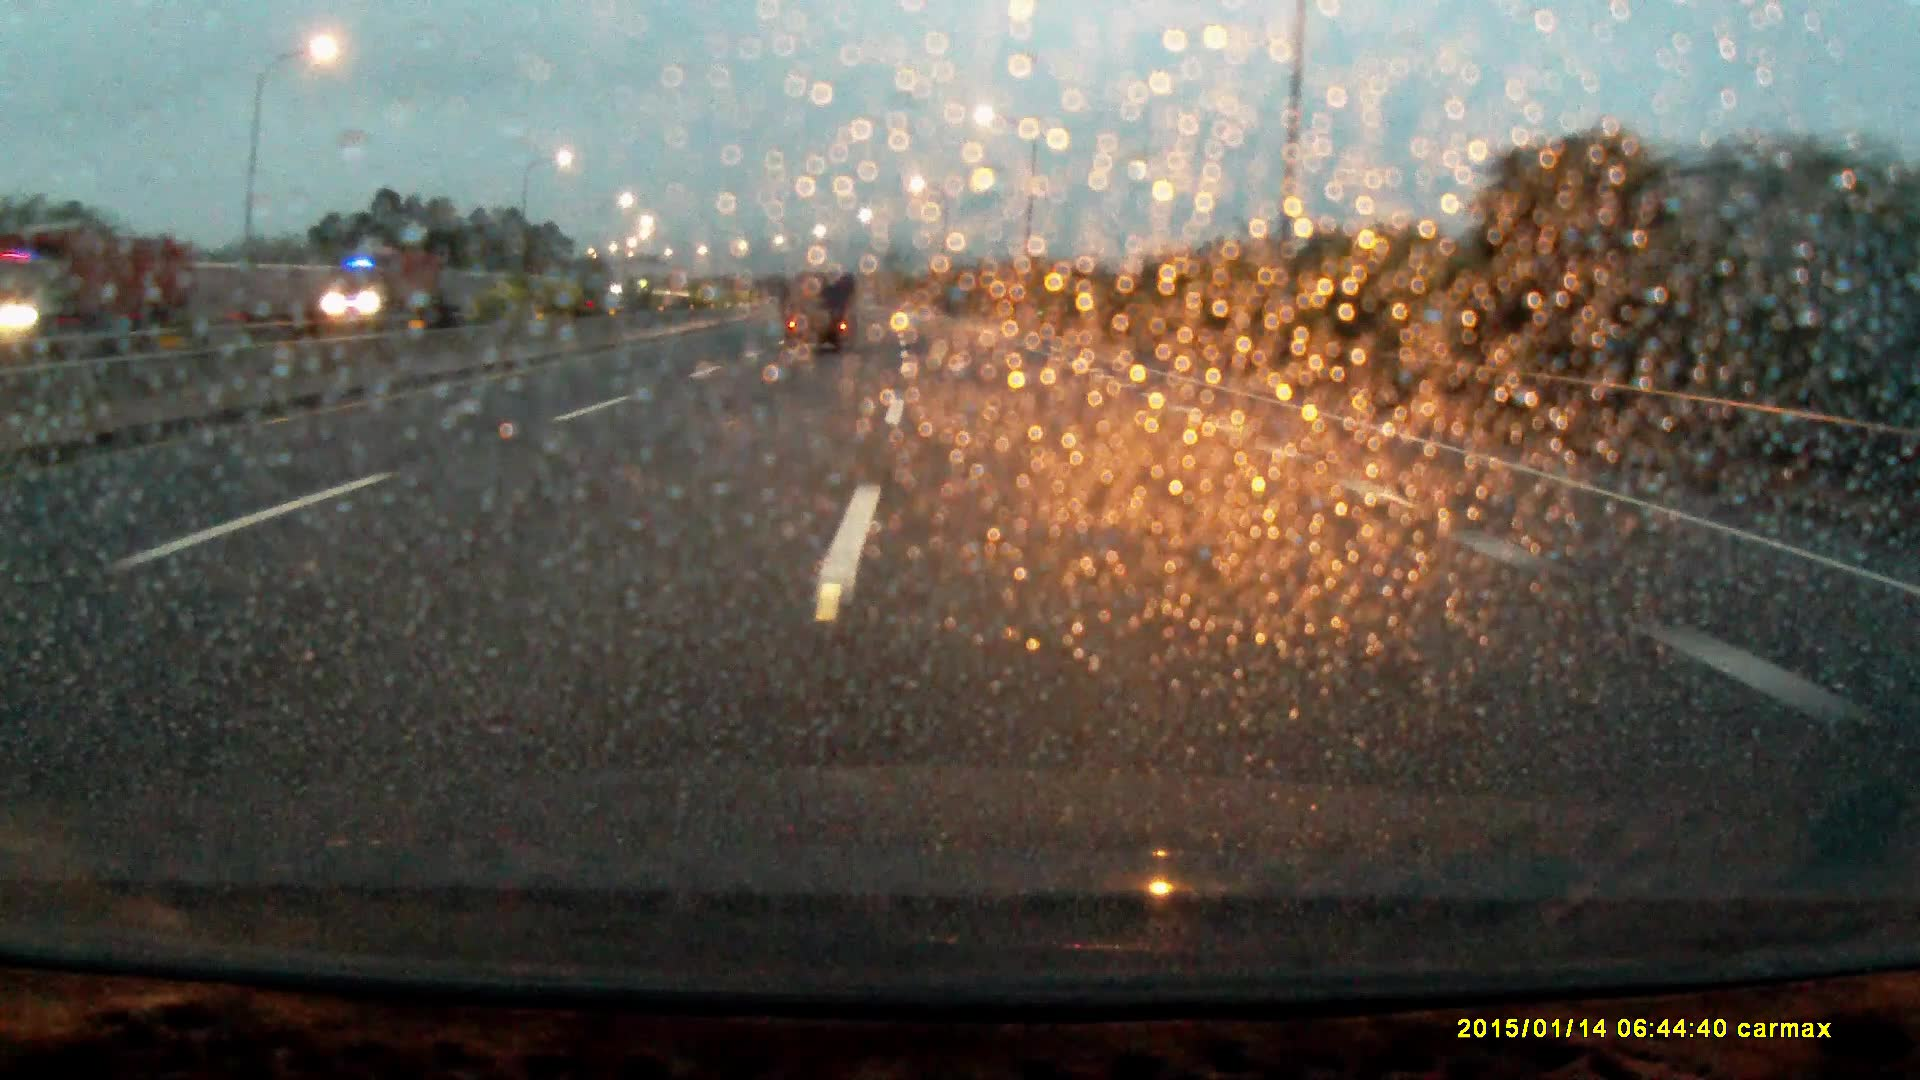vehicle: (319, 251, 443, 320), (779, 273, 858, 360)
